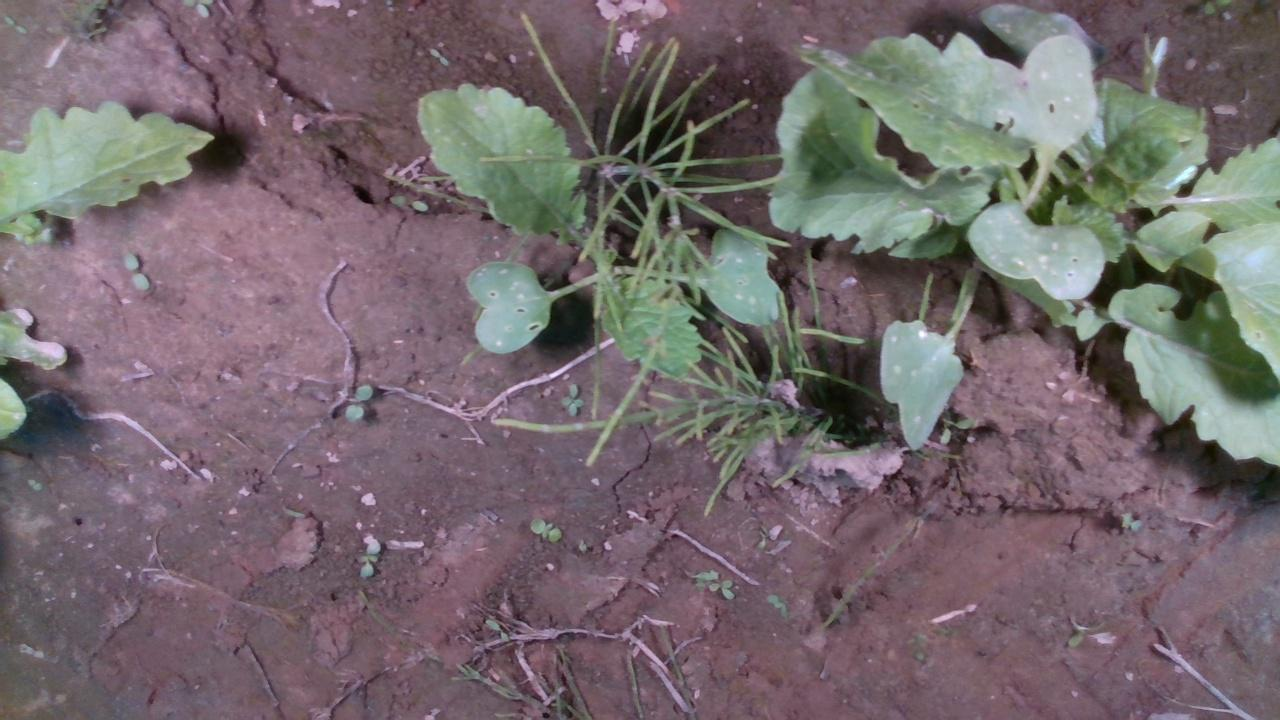weed: (342, 382, 373, 422), (121, 251, 149, 289), (355, 537, 381, 576), (526, 516, 561, 542), (560, 381, 583, 416)
